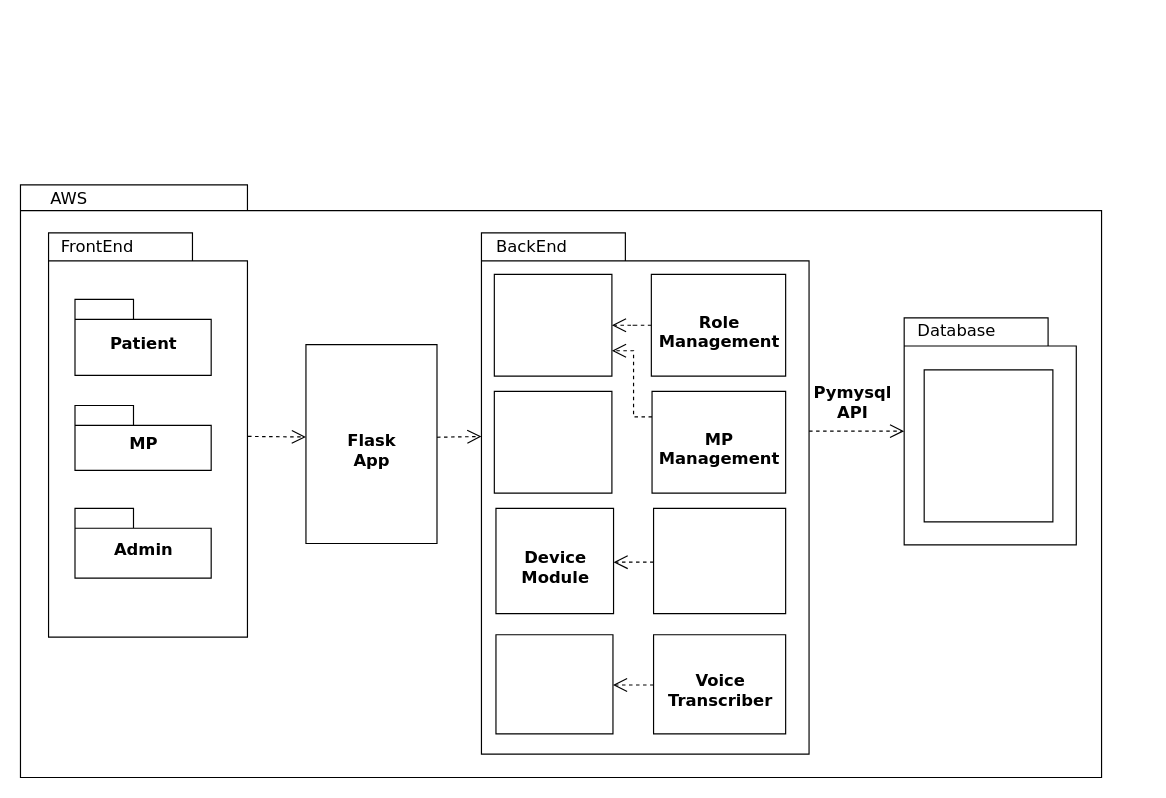
Image size: 1166x798. Some labels were removed from this diagram. Each missing label, with the centre of its shape:
Alert Module: (719,560)
Calendar Module: (552,441)
Chat Module: (554,684)
MySQL Database: (988,445)
User Module: (552,324)
